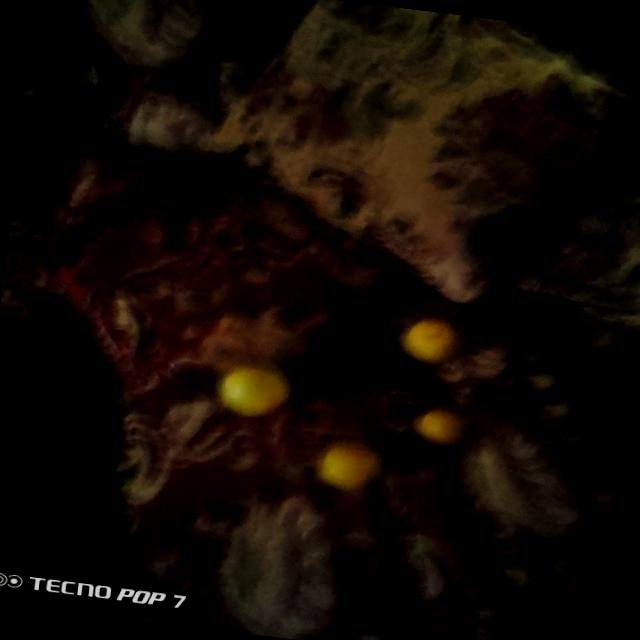agrume: (198, 353, 302, 431), (307, 433, 385, 504), (385, 313, 463, 367), (406, 396, 477, 455)
